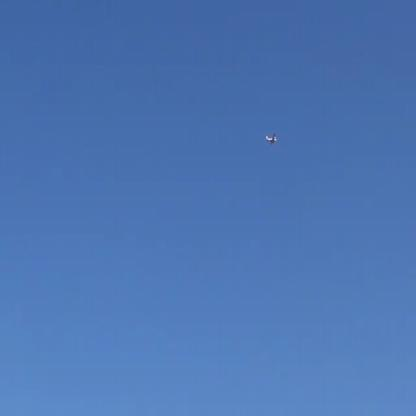CIV_Plane: (264, 132, 278, 143)
